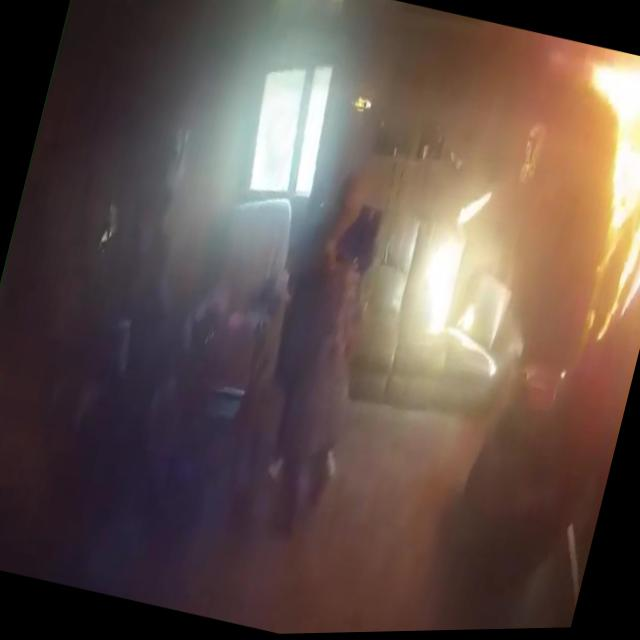fire: (521, 47, 640, 362)
